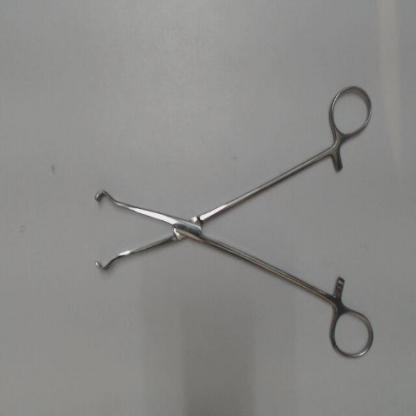8 Babcock Tissue Forceps: (86, 76, 383, 363)
